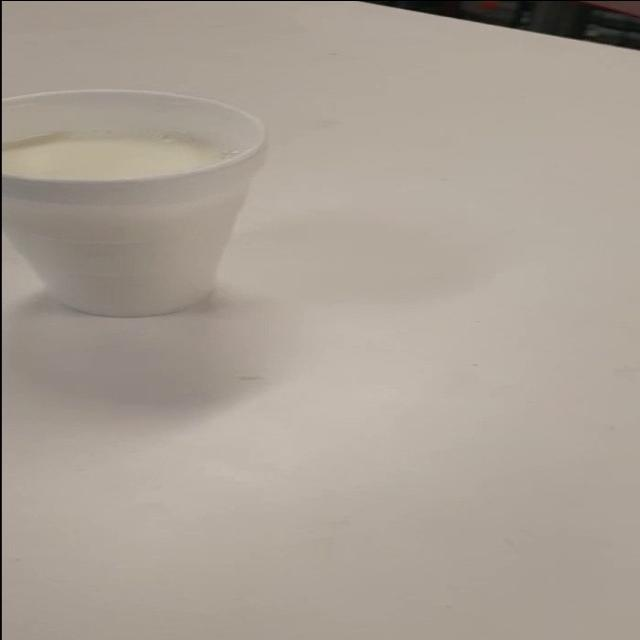Milk: (8, 79, 309, 335)
